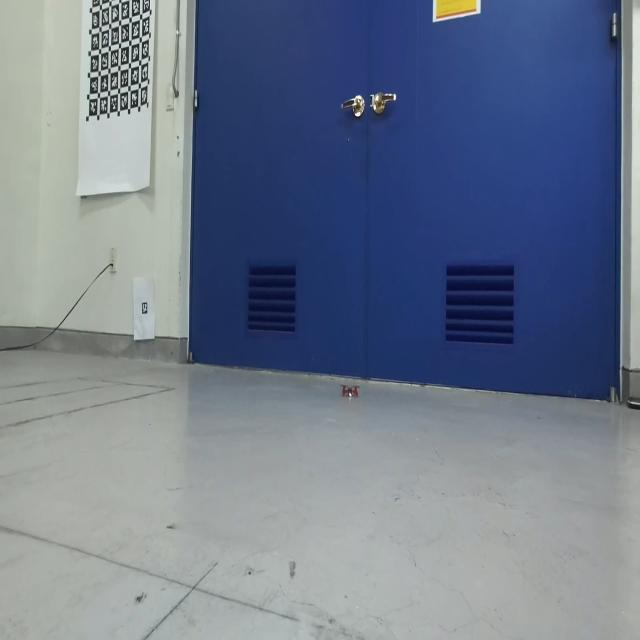crazyflie: (339, 382, 362, 401)
